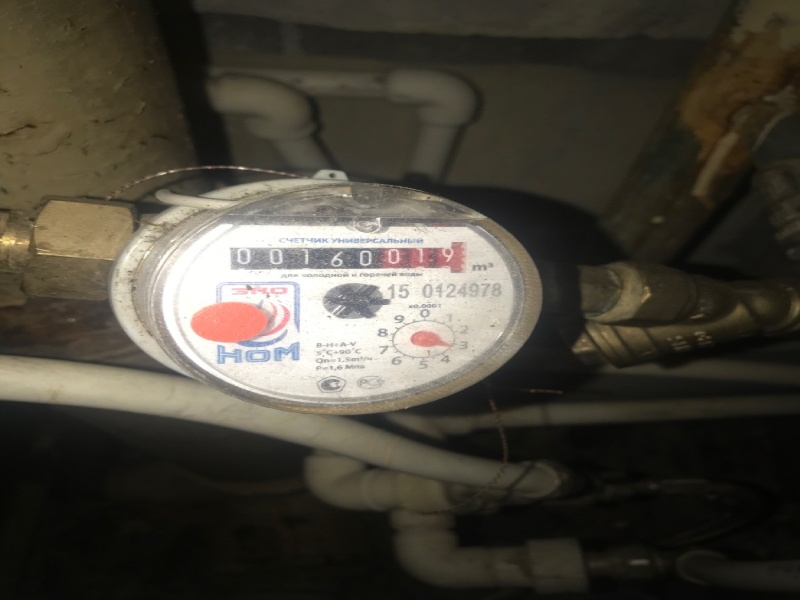meter: (227, 242, 460, 273)
